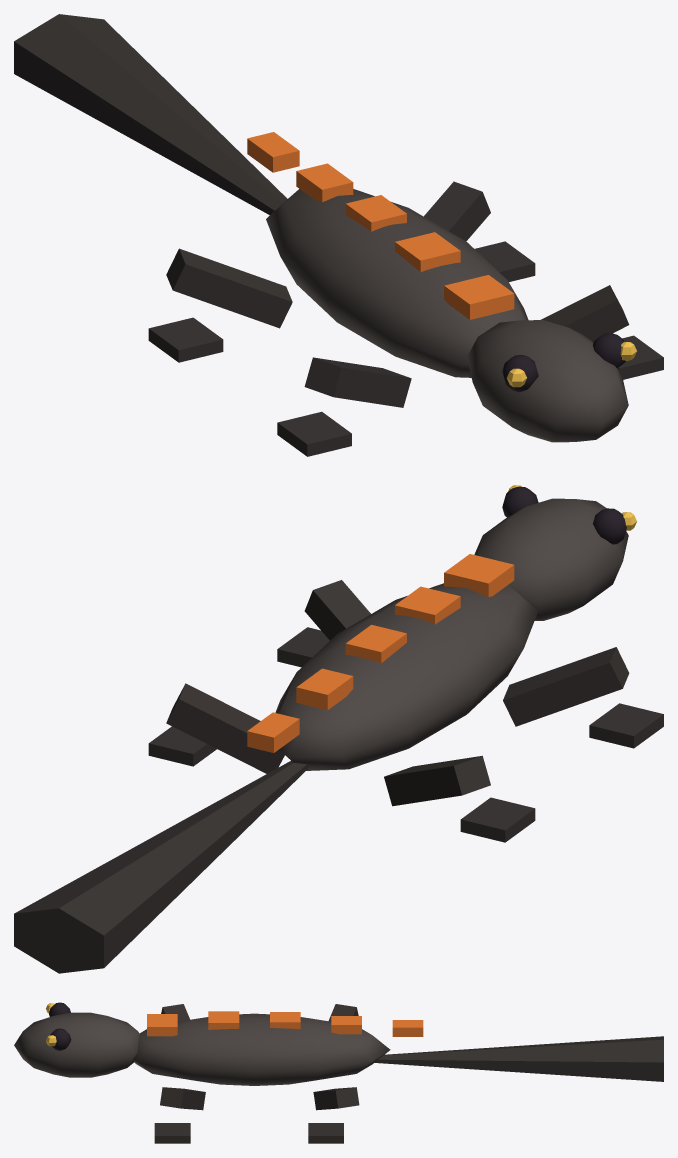
The model's file is critter_lizard.glb.
The picture shows the model from 3 angles, top to bottom: view 1: azimuth 30°, elevation 25°; view 2: azimuth 150°, elevation 25°; view 3: azimuth 270°, elevation 25°; orthographic projection. The views are drawn at different scales.
Parts seen in each view (by area): view 1: critter_lizard; view 2: critter_lizard; view 3: critter_lizard.
Part boxes in pixels (box(x1,y1,x2,y2)): critter_lizard: box(14, 14, 663, 456); critter_lizard: box(14, 485, 663, 973); critter_lizard: box(14, 1002, 663, 1143).
Bounding box in the file's own units: 0.24 × 0.081 × 0.635.
